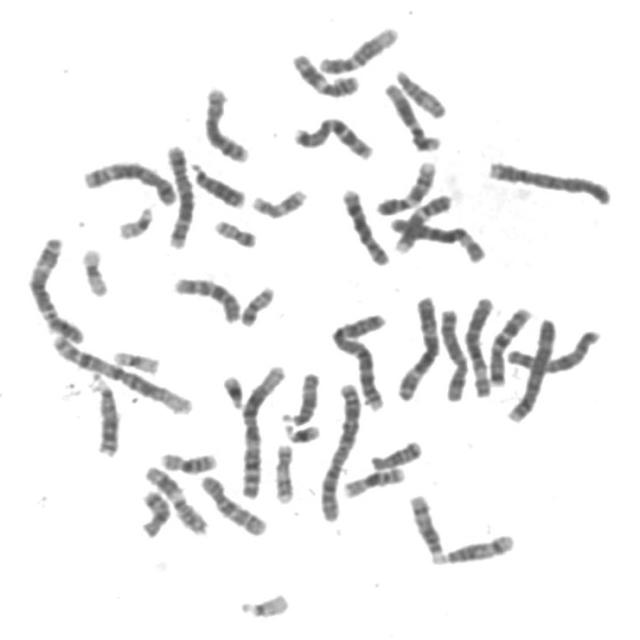A1: (45, 328, 195, 417), (234, 358, 288, 501)
A2: (313, 378, 362, 524), (325, 306, 390, 413)
A3: (22, 230, 86, 345), (391, 290, 442, 402)
B4: (482, 154, 614, 207), (500, 311, 560, 425)
B5: (77, 155, 179, 207), (159, 138, 196, 250)
C10: (194, 468, 269, 538), (168, 270, 243, 325)
C11: (139, 460, 210, 537), (286, 47, 362, 99)
C12: (378, 76, 443, 152), (313, 20, 401, 75)
C6: (385, 211, 488, 265), (459, 290, 496, 399)
C7: (286, 111, 376, 161), (484, 300, 534, 388)
C8: (335, 182, 391, 268), (198, 81, 252, 164)
C9: (388, 188, 455, 254), (370, 154, 440, 217)
D13: (185, 156, 248, 210), (86, 370, 121, 458)
D14: (430, 528, 518, 566), (403, 488, 446, 562)
D15: (390, 62, 450, 120), (276, 366, 322, 428)
E16: (338, 460, 408, 500), (154, 445, 220, 475)
E17: (246, 182, 310, 220), (268, 437, 297, 505)
E18: (365, 434, 424, 472), (134, 484, 172, 539)
F19: (75, 241, 112, 298), (106, 343, 162, 376)
F20: (234, 280, 277, 328), (208, 213, 258, 249)
G21: (216, 368, 247, 410), (278, 416, 322, 444)
G22: (232, 586, 292, 620), (111, 200, 156, 241)
X: (501, 323, 604, 376), (434, 302, 471, 403)
